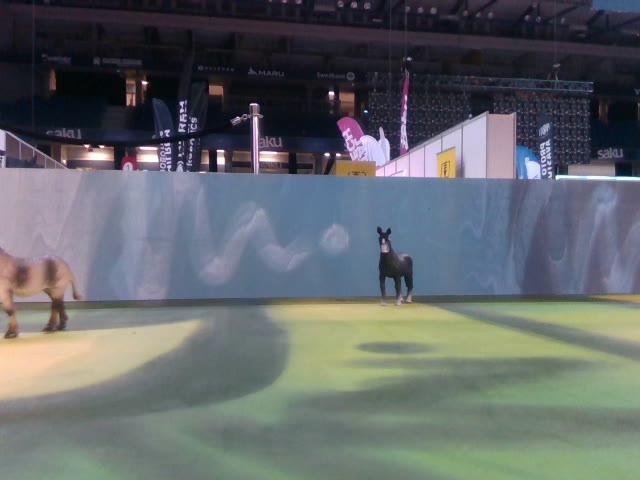toy: (376, 226, 414, 307)
